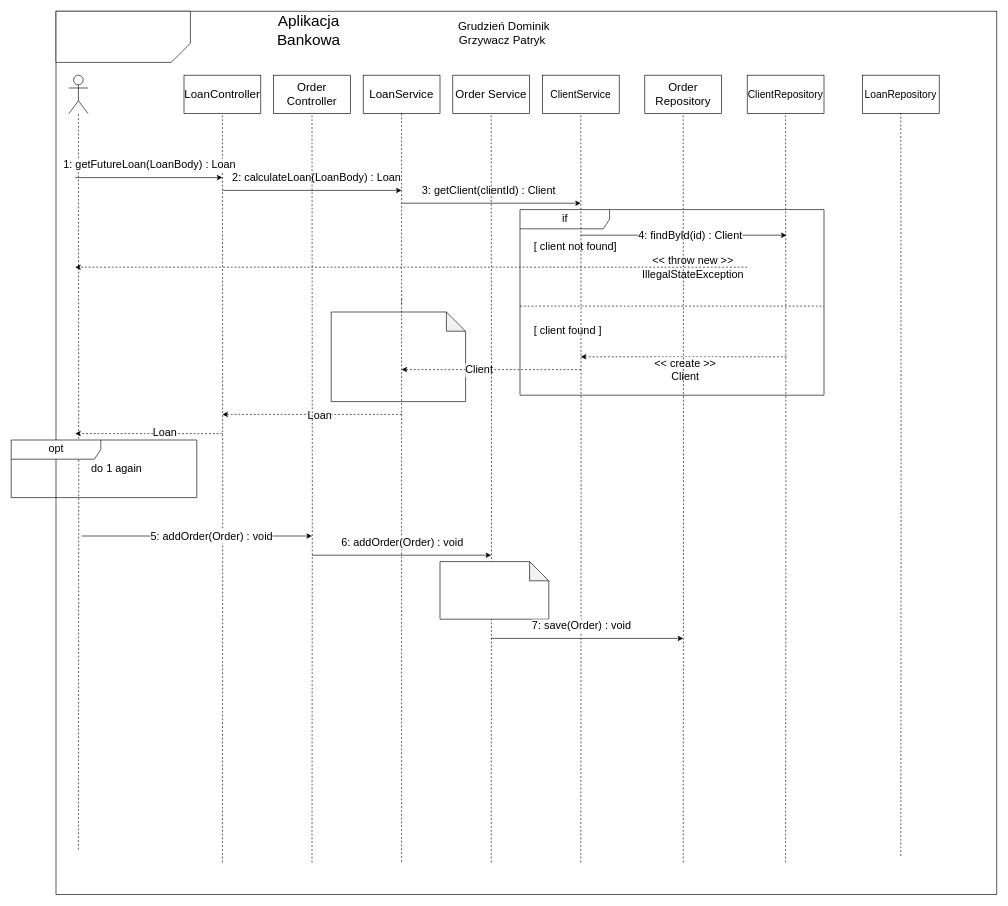
The diagram is 1008 pixels wide and 906 high, and some of its shapes have lost their labels. The shapes that lost their labels are listed below. From the top down, each one's centre as x and y in pixels, then its label:
At [122,36]: "Prośba o pożyczkę".
At [78,94]: "Klient poprzez aplikację frontendową".
At [398,356]: "<<create>> Loan".
At [494,590]: "Order.setIsActive(true)".
